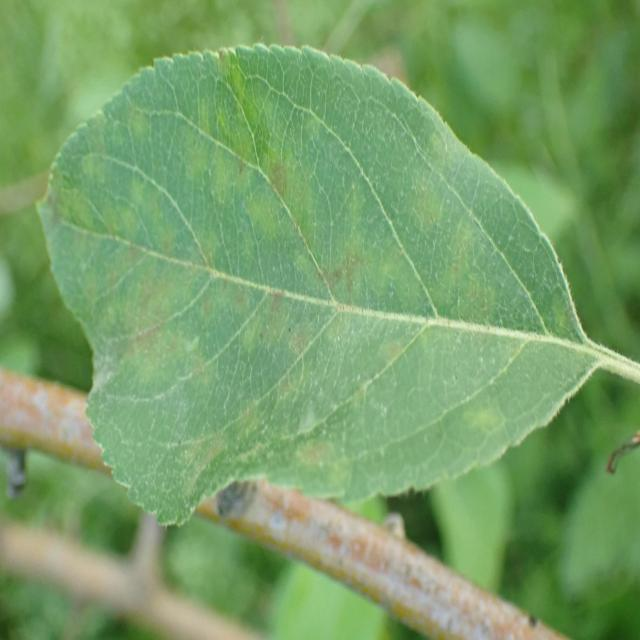scab: (31, 63, 554, 494)
